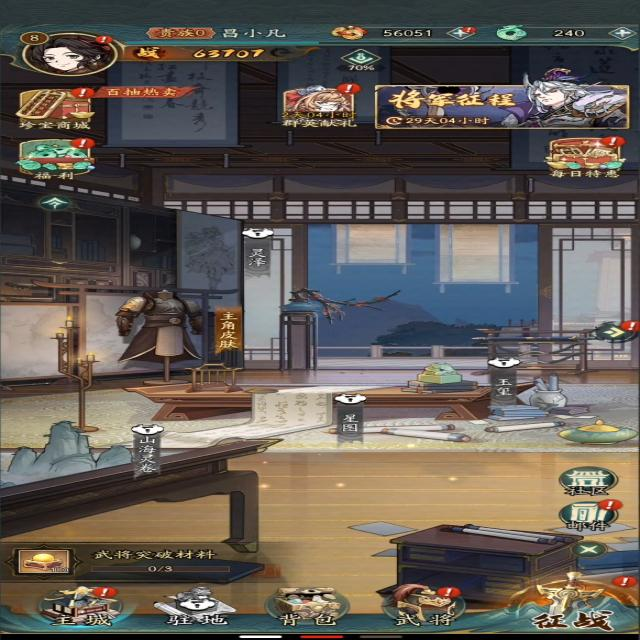hint-reddot: (67, 84, 99, 100), (89, 585, 120, 599), (70, 136, 94, 153), (612, 574, 636, 590), (599, 134, 626, 148), (600, 498, 626, 512), (434, 586, 460, 600), (336, 81, 360, 96), (87, 34, 117, 45), (617, 320, 640, 334), (457, 26, 480, 34)
navigation-DailyDiscount: (542, 135, 630, 183)
navigation-bag: (263, 584, 356, 629)
navigation-community: (548, 463, 620, 498)
navigation-fight: (502, 570, 630, 634)
navigation-hero: (379, 582, 476, 631)
navigation-lingze-off: (241, 225, 273, 278)
navigation-mail: (553, 498, 623, 534)
navigation-main: (21, 584, 133, 631)
navigation-role: (15, 26, 127, 80)
navigation-shanhailingjuan-off: (124, 422, 164, 481)
navigation-station-off: (152, 584, 248, 632)
navigation-treasureMall: (15, 86, 96, 133)
navigation-welfare: (18, 136, 99, 184)
navigation-xingtu-off: (330, 392, 371, 449)
navigation-yuxi-off: (485, 354, 524, 407)
navigation-zhujuepifu: (212, 306, 242, 352)
operation-close: (572, 542, 603, 558)
